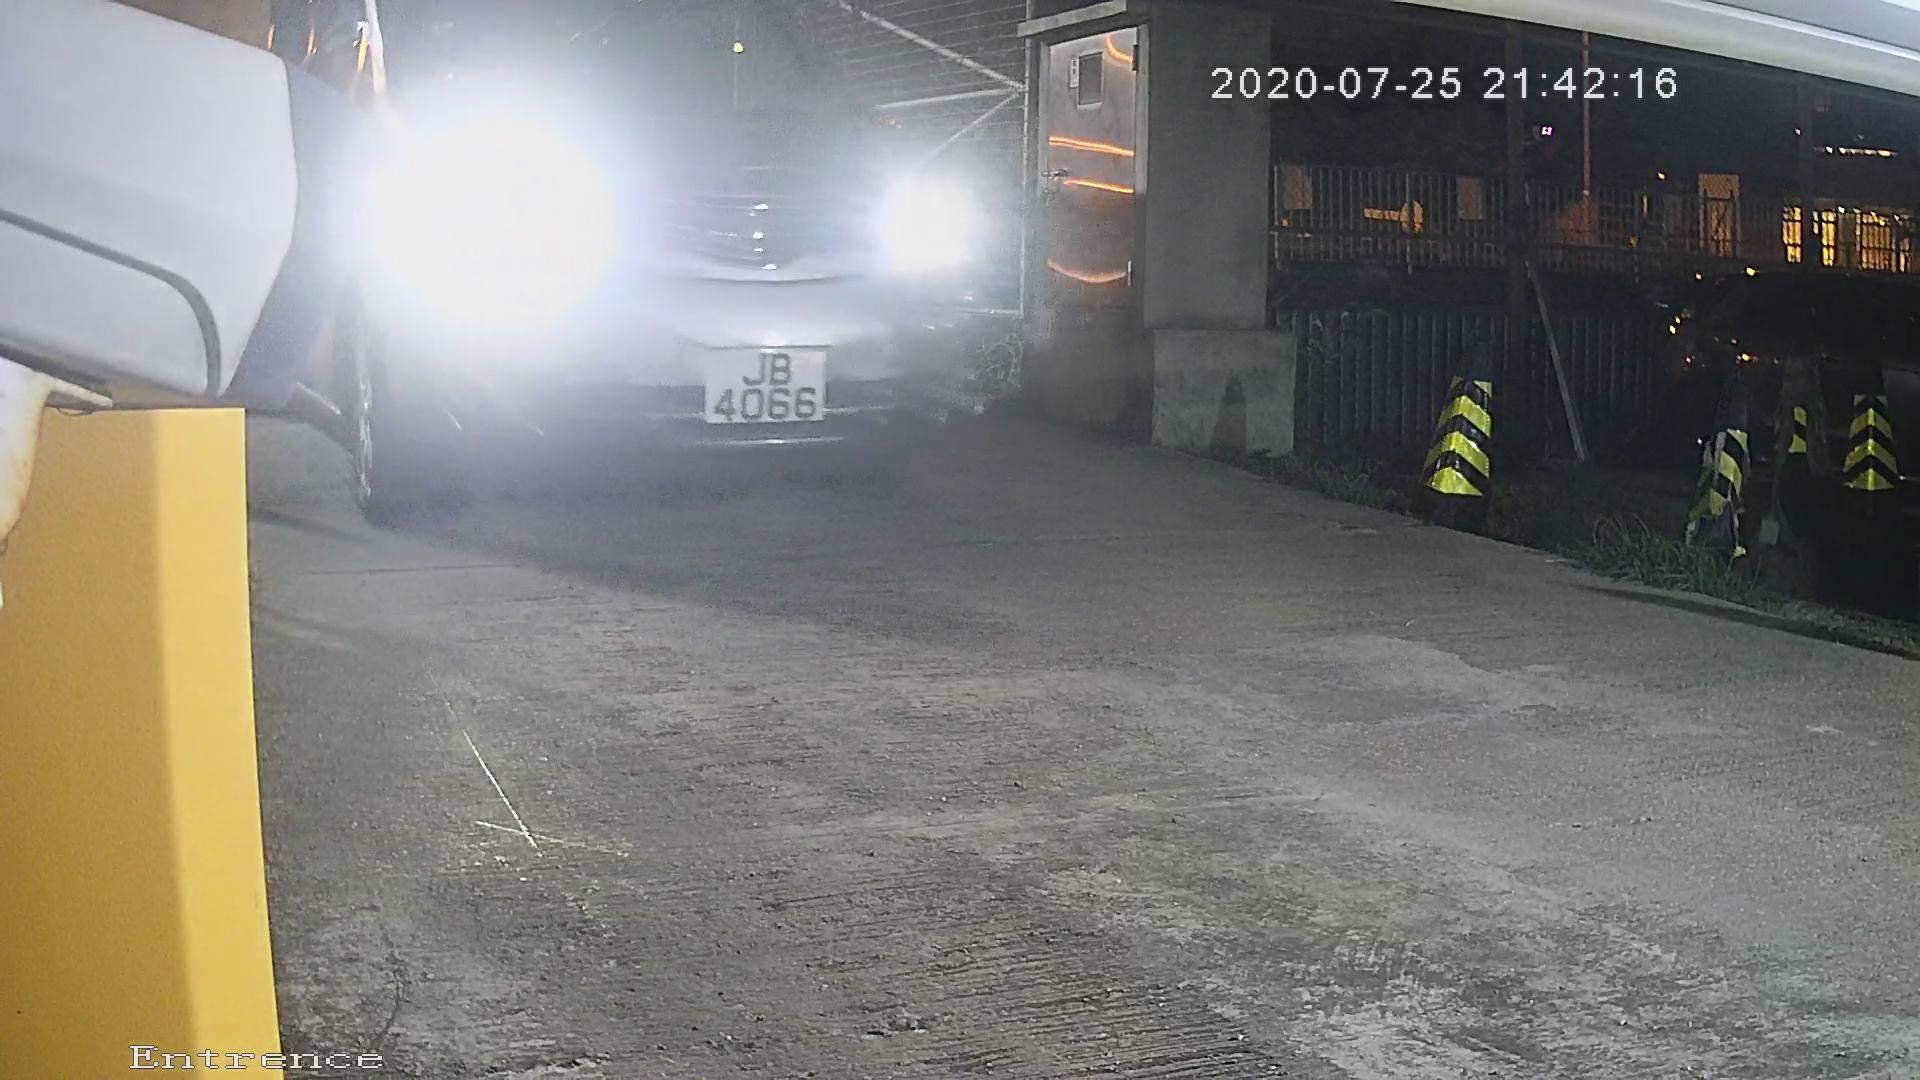privatecar: (232, 29, 1046, 535)
